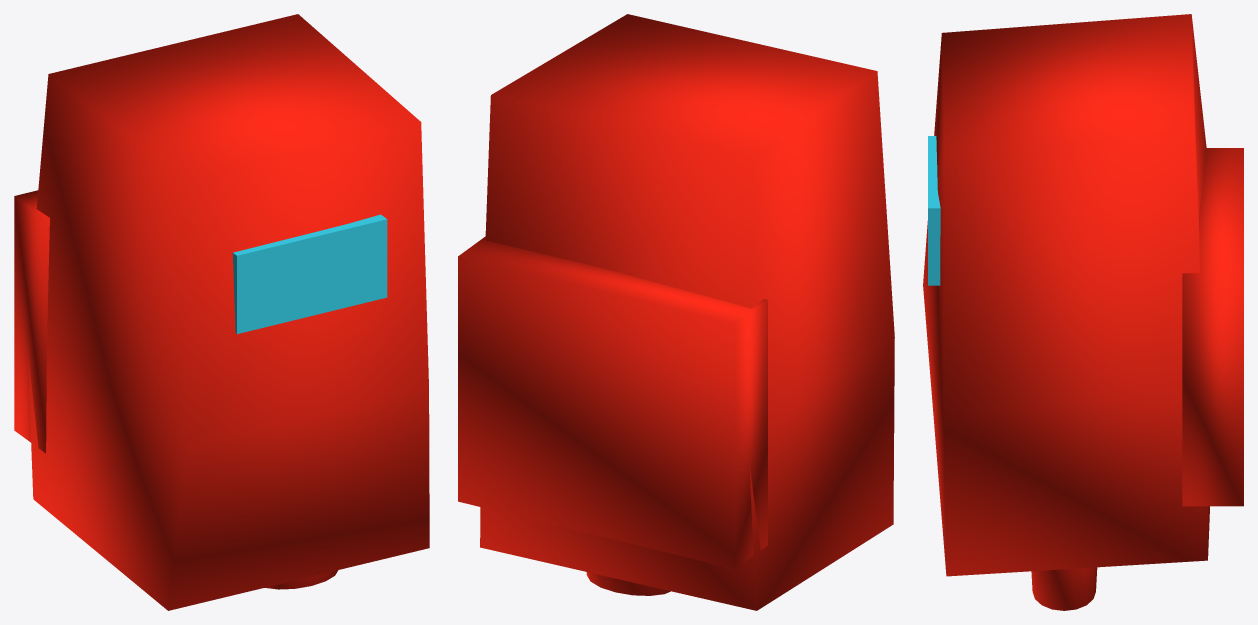
Rendered from asset.glb.
3 views of the same model, side by side, from view 1: azimuth 30°, elevation 25°; view 2: azimuth 150°, elevation 25°; view 3: azimuth 270°, elevation 25° (orthographic). The views are drawn at different scales.
Visible parts, largest first — view 1: Cube, Cube.001, Cube.002; view 2: Cube, Cube.002, Cylinder; view 3: Cube, Cube.002, Cylinder, Cube.001.
Boxes of the visible parts, x1=… form: Cube: x1=27, y1=14, x2=429, y2=610; Cube.001: x1=232, y1=214, x2=387, y2=333; Cube.002: x1=14, y1=190, x2=49, y2=453; Cube: x1=480, y1=14, x2=894, y2=610; Cube.002: x1=458, y1=236, x2=767, y2=569; Cylinder: x1=586, y1=572, x2=670, y2=595; Cube: x1=923, y1=14, x2=1209, y2=576; Cube.002: x1=1182, y1=148, x2=1243, y2=506; Cylinder: x1=1031, y1=567, x2=1097, y2=610; Cube.001: x1=928, y1=136, x2=940, y2=285.
Bounding box in the file's own units: 1.51 × 2.7 × 1.6.
